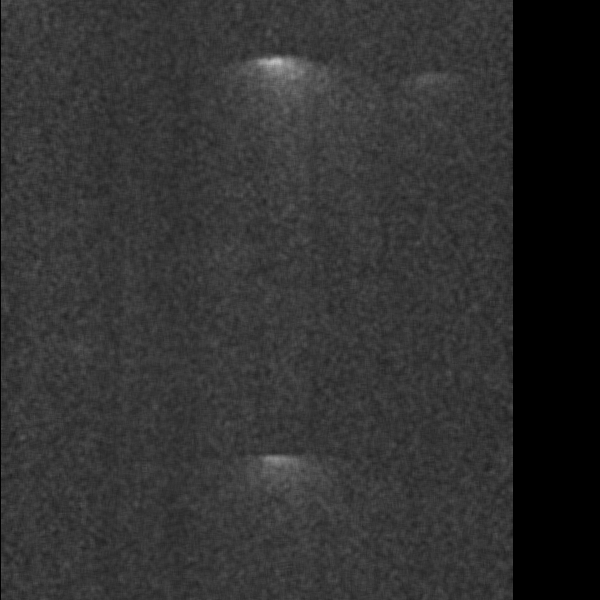spark: (453, 230, 491, 284)
